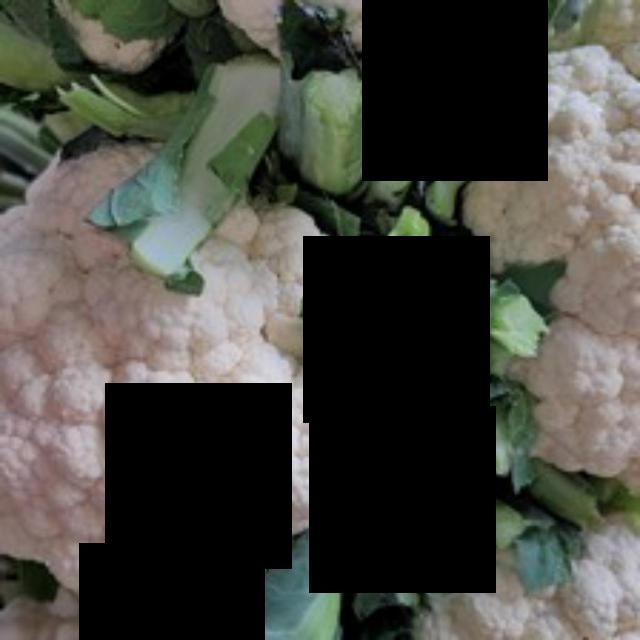cauliflower: (2, 134, 406, 631)
